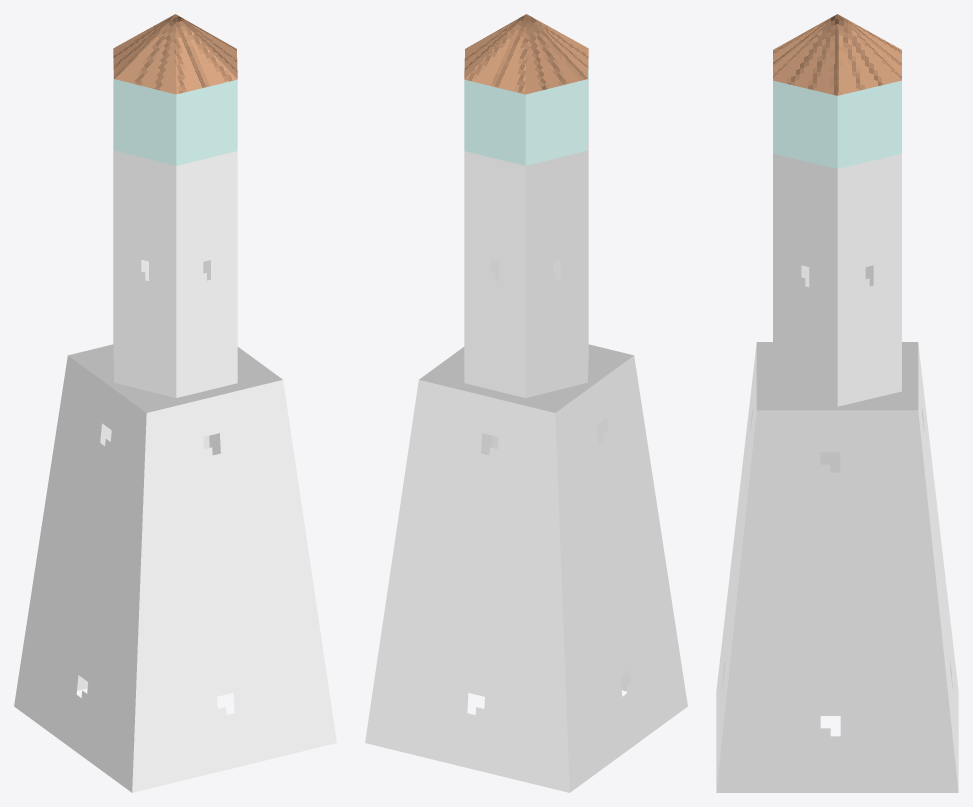
File: uvmd-0067.glb
The picture shows the model from 3 angles, left to right: view 1: azimuth 30°, elevation 25°; view 2: azimuth 150°, elevation 25°; view 3: azimuth 270°, elevation 25°; orthographic projection. The views are drawn at different scales.
Parts seen in each view (by area): view 1: uvmd-0067; view 2: uvmd-0067; view 3: uvmd-0067.
Part boxes in pixels (x1,y1,x2,y2): uvmd-0067: (14,14,336,792); uvmd-0067: (365,14,687,792); uvmd-0067: (716,14,958,792).
Size of the model in its own units: 60 by 199 by 60.
Materials: 3 (3 with a texture image).
